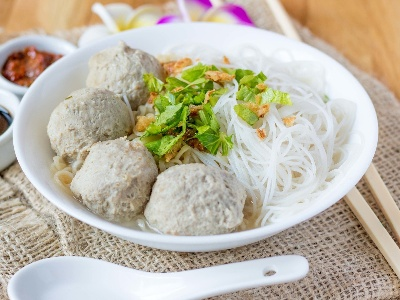bakso: (54, 40, 282, 231)
